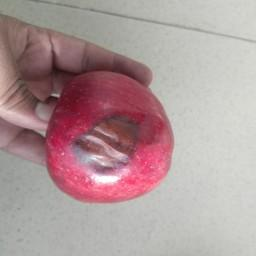Bad_apple: (42, 70, 175, 204)
